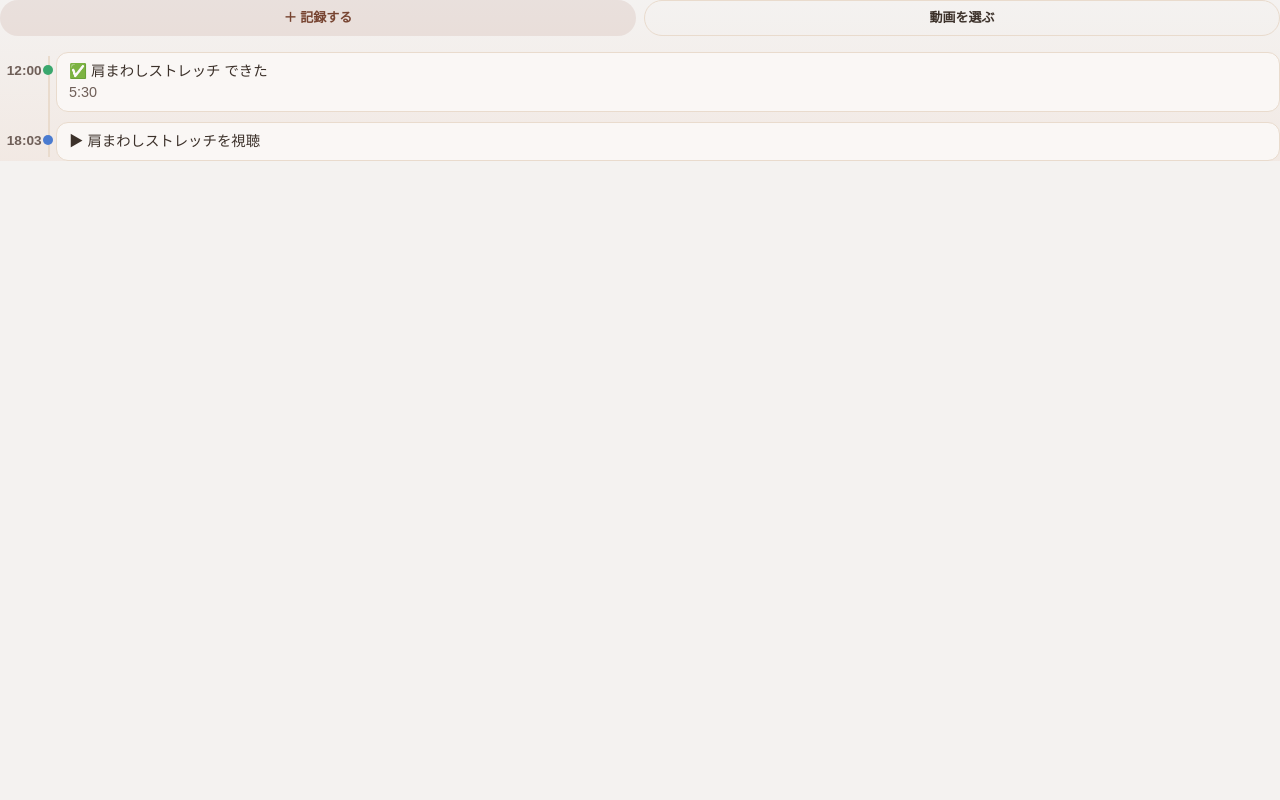
TimelineSection › edits the time of a watch event and deletes it
Click the button "▶ 肩まわしストレッチを視聴". click: [165, 141]
box: [56, 122, 1279, 161]
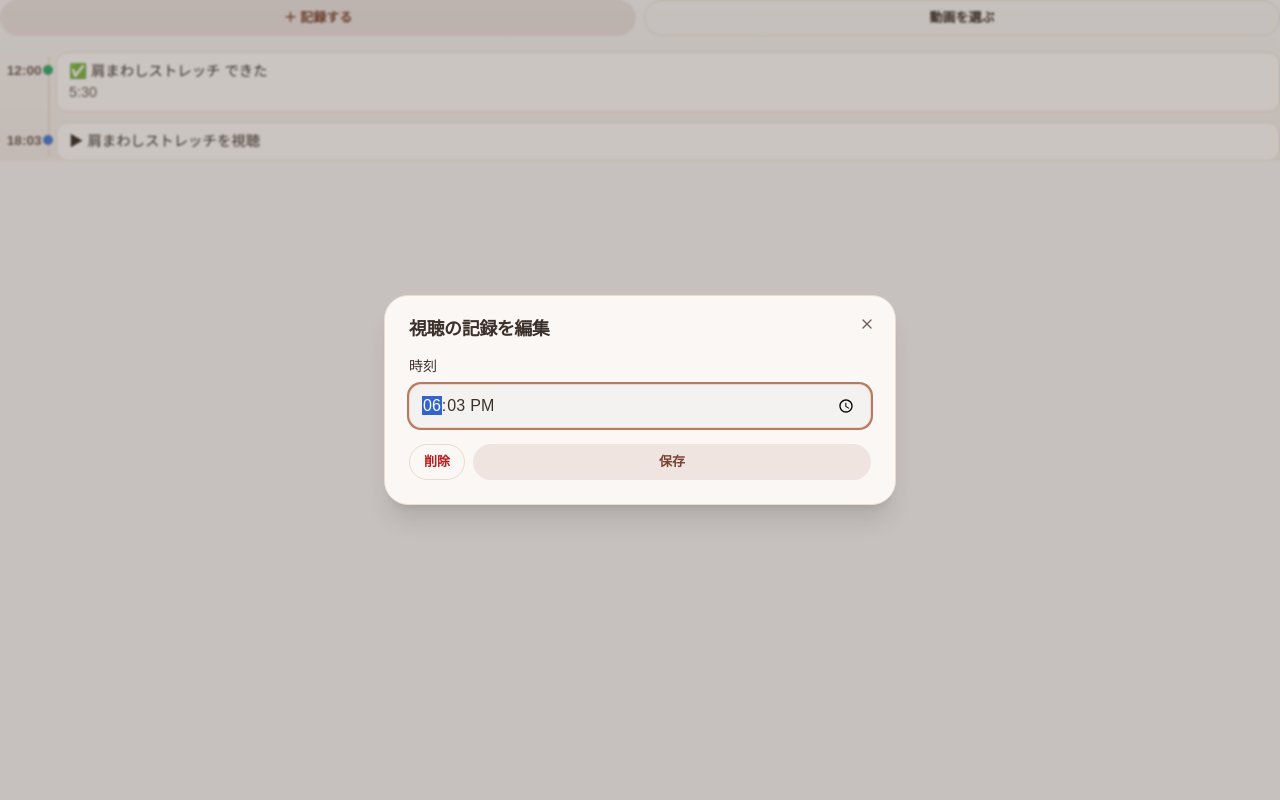
Replace the text in the time field labelled "時刻" with "09:30". click: [640, 406]
box: [409, 384, 871, 428]
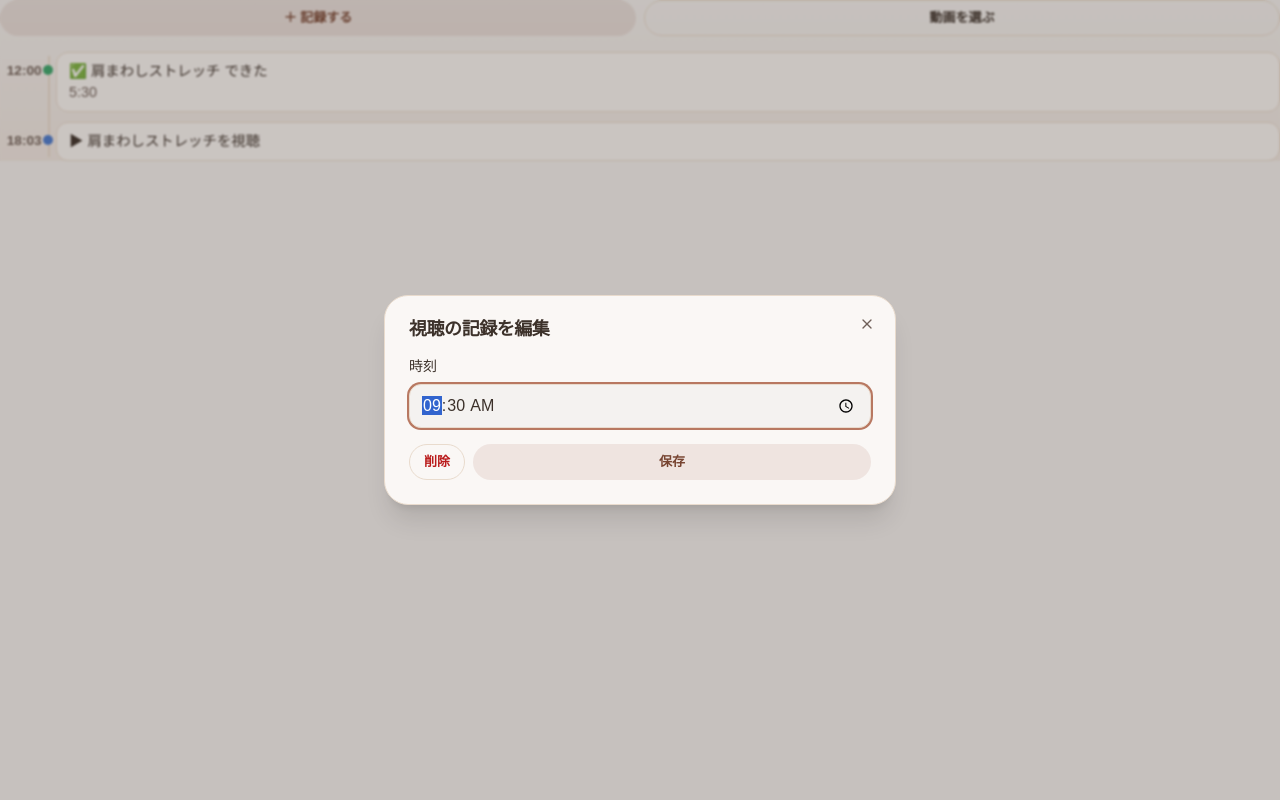
Click the button "保存". click: [672, 462]
box: [473, 444, 871, 480]
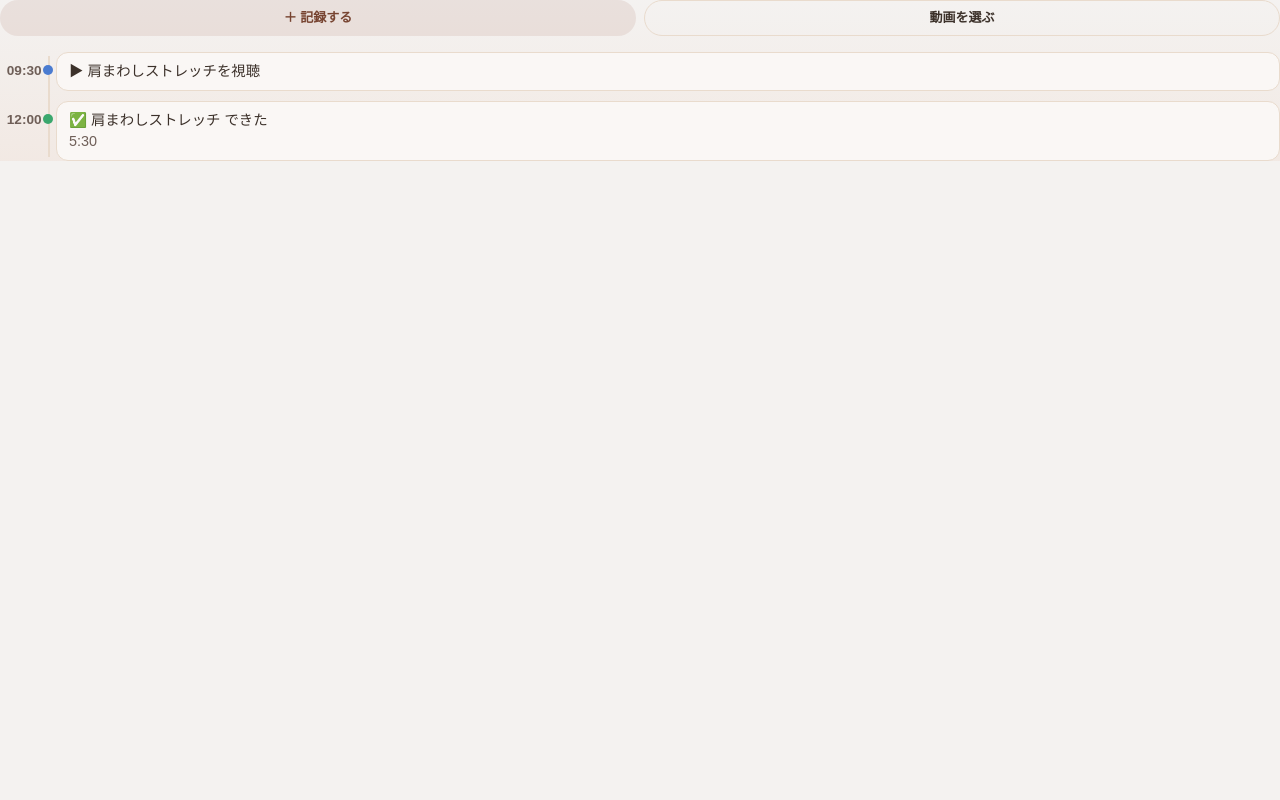
Result: the dialog is gone
Result: the list item "09:30 ▶ 肩まわしストレッチを視聴" is shown
Click the button "▶ 肩まわしストレッチを視聴". click: [165, 71]
box: [56, 52, 1279, 91]
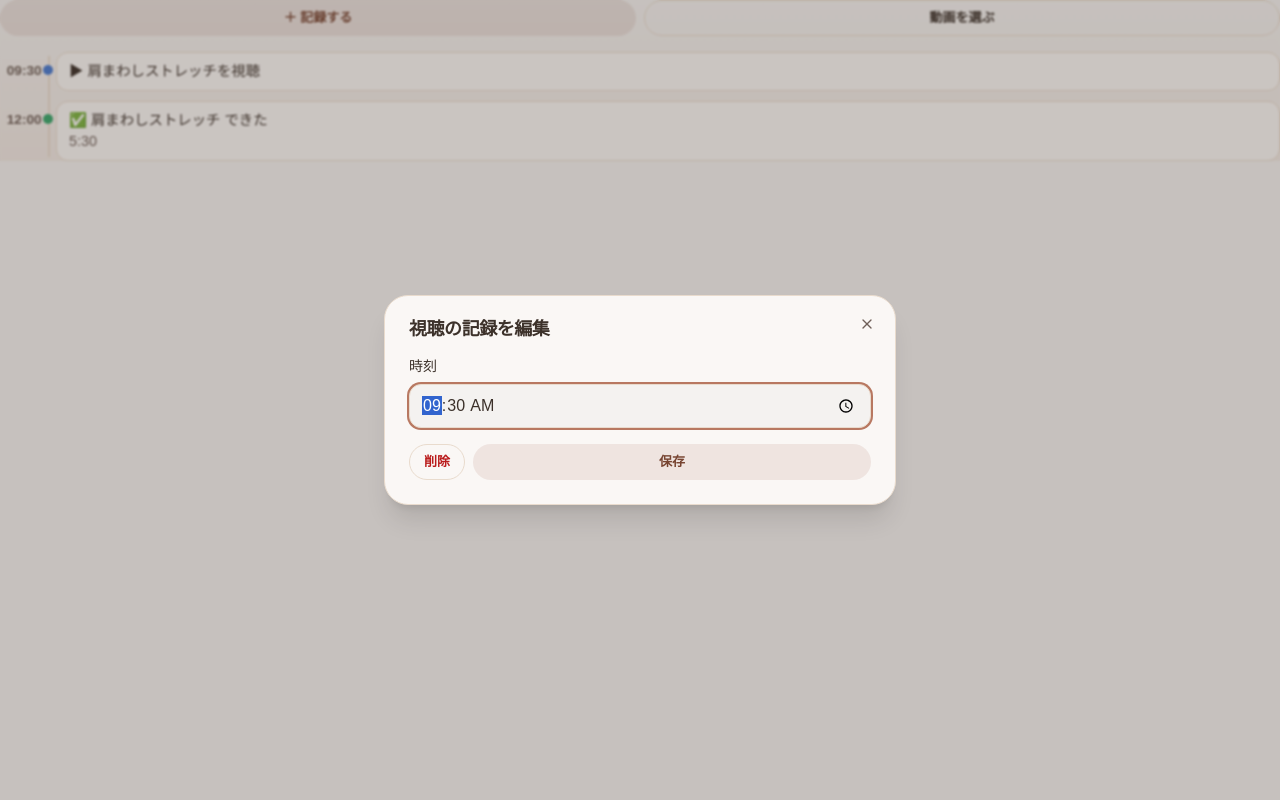
Click the button "削除". click: [437, 462]
box: [409, 444, 465, 480]
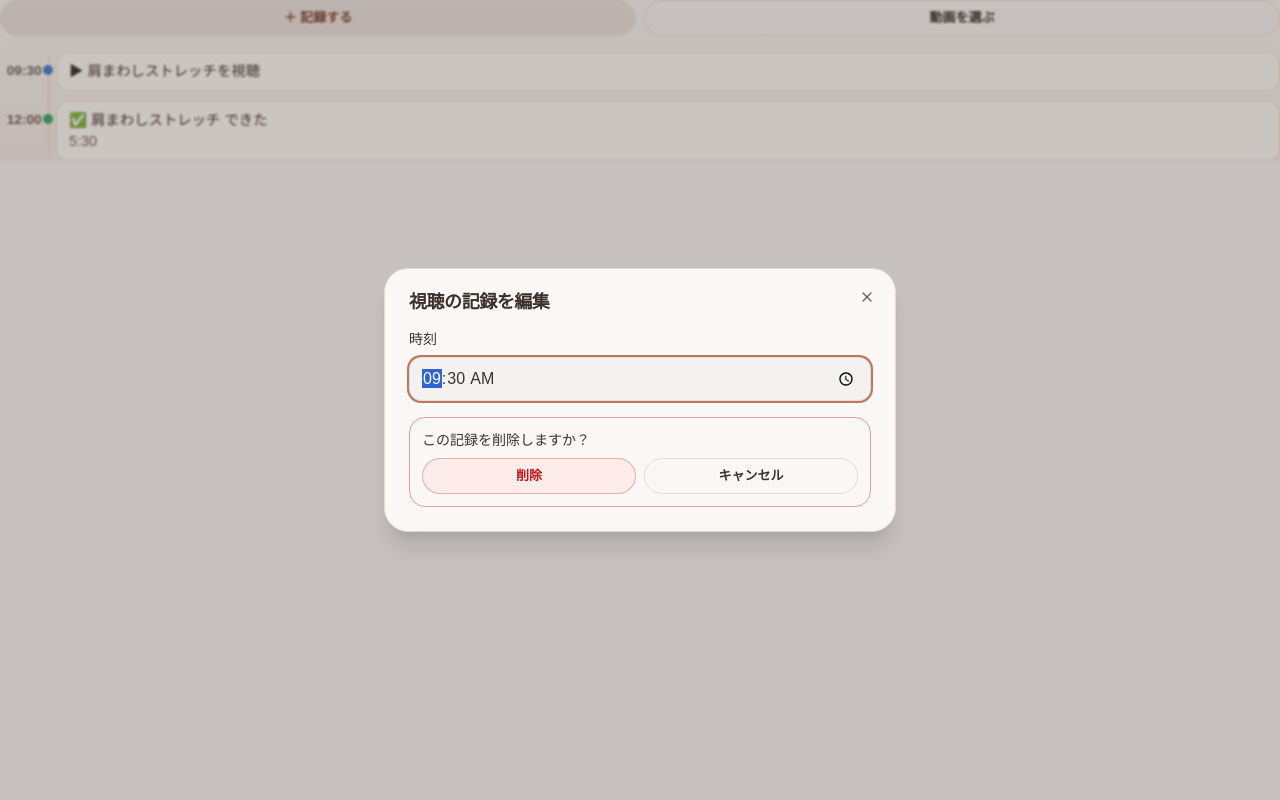
Click the button "削除". click: [529, 476]
box: [422, 458, 636, 494]
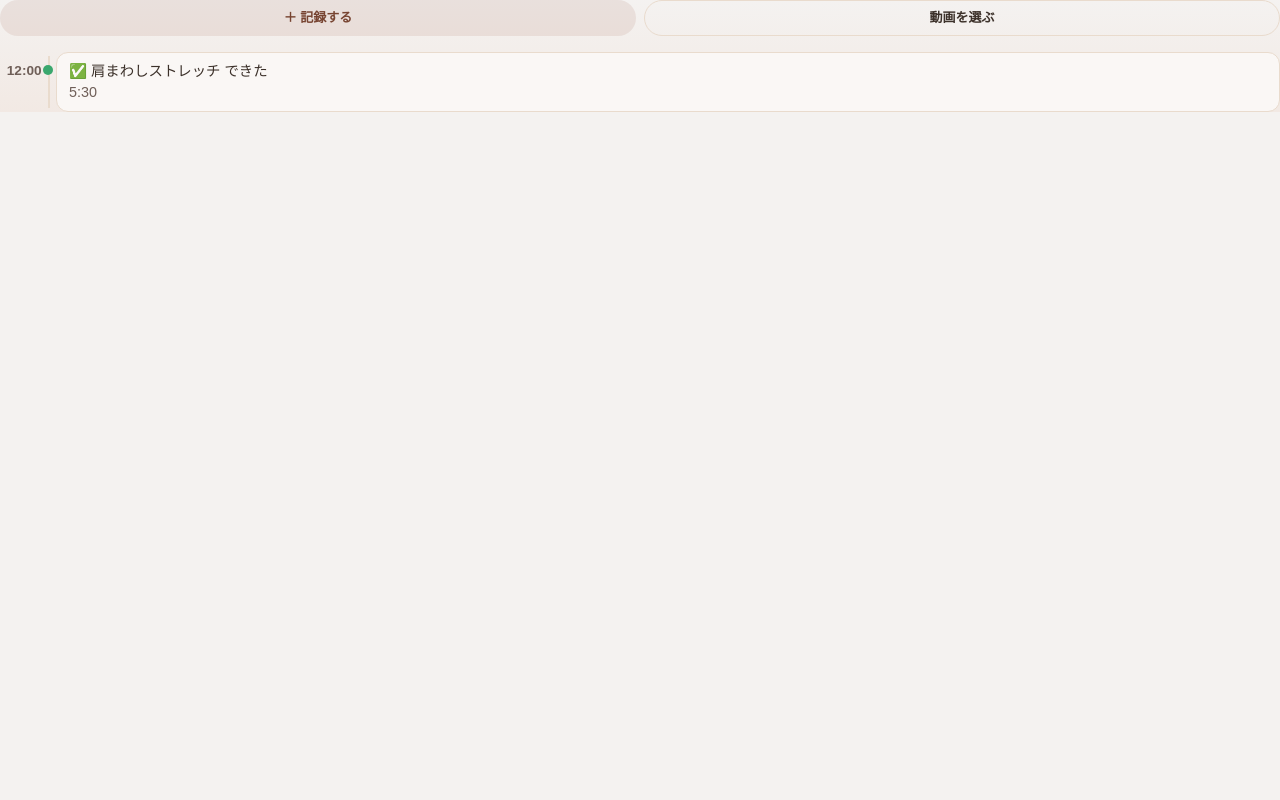
Result: the dialog is gone
Result: the button "を視聴" is gone
